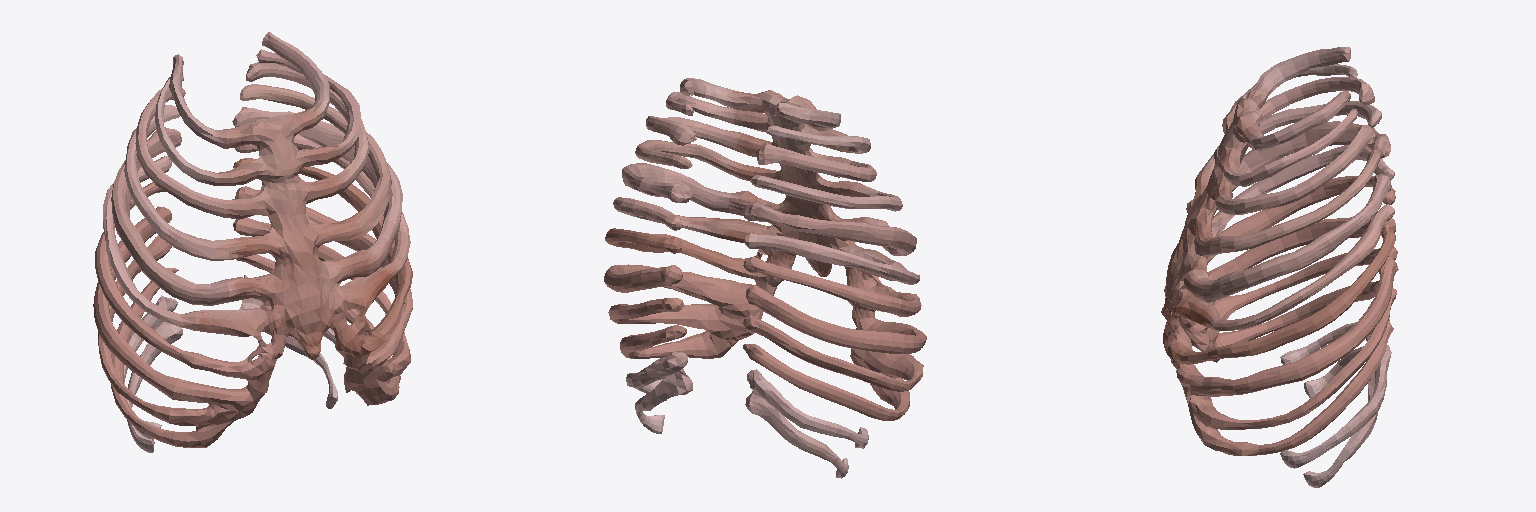
The picture shows the model from 3 angles: view 1: azimuth 30°, elevation 25°; view 2: azimuth 150°, elevation 25°; view 3: azimuth 270°, elevation 25°; orthographic projection.
Parts seen in each view (by area): view 1: rib_cage; view 2: rib_cage; view 3: rib_cage.
Part boxes in pixels (bbox=[...]): rib_cage: bbox=[93, 32, 412, 452]; rib_cage: bbox=[604, 78, 926, 478]; rib_cage: bbox=[1161, 47, 1398, 487].
Bounding box in the file's own units: 1.88 × 2.3 × 1.32.
1 materials, 1 textured.